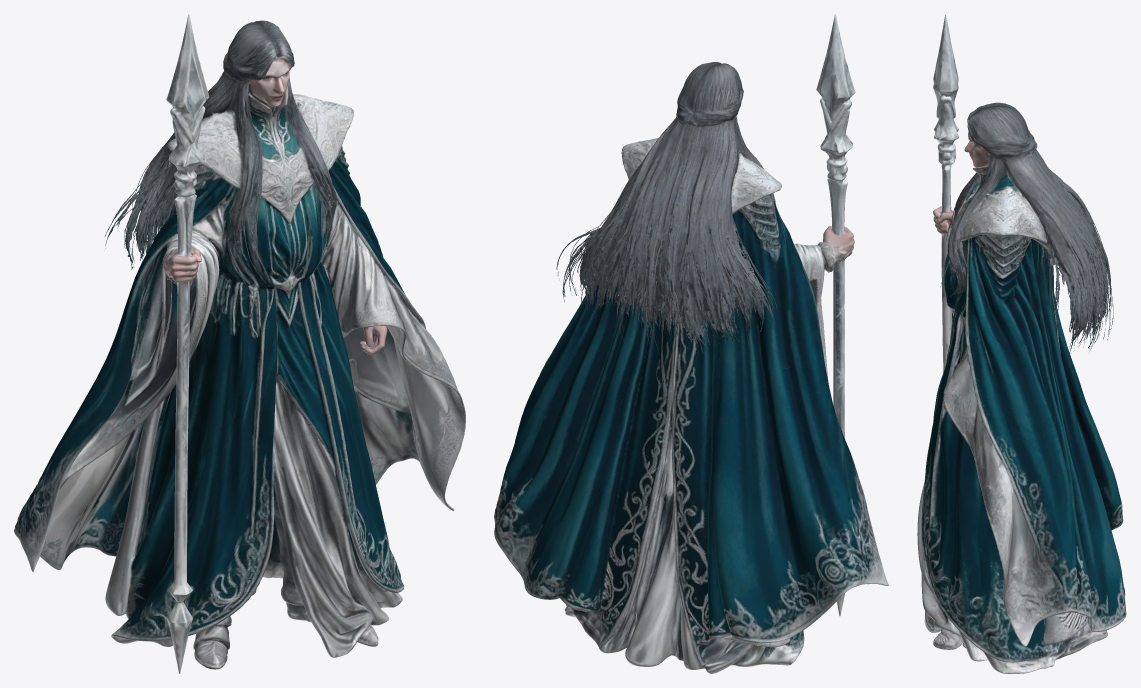
Rendered from hero_tide.glb.
The picture shows the model from 3 angles, left to right: view 1: azimuth 30°, elevation 25°; view 2: azimuth 150°, elevation 25°; view 3: azimuth 270°, elevation 25°; orthographic projection. The views are drawn at different scales.
Size of the model in its own units: 1.24 by 1.9 by 0.642.
Materials: 1 (1 with a texture image).
